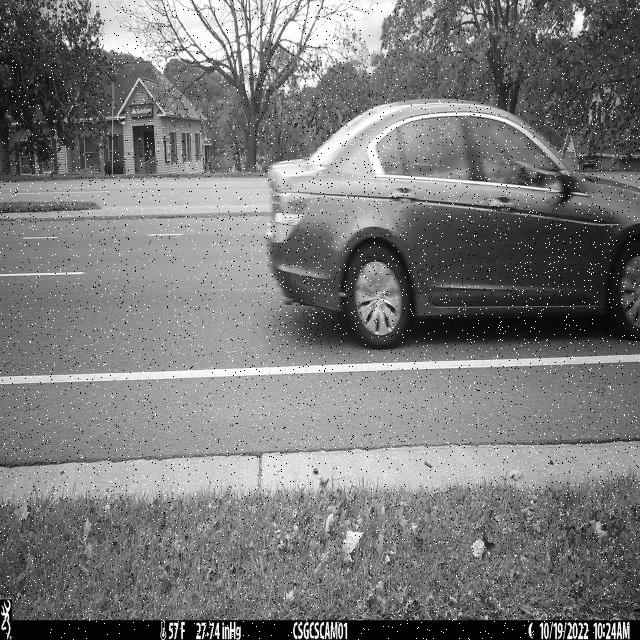Sedan: (265, 99, 640, 349)
